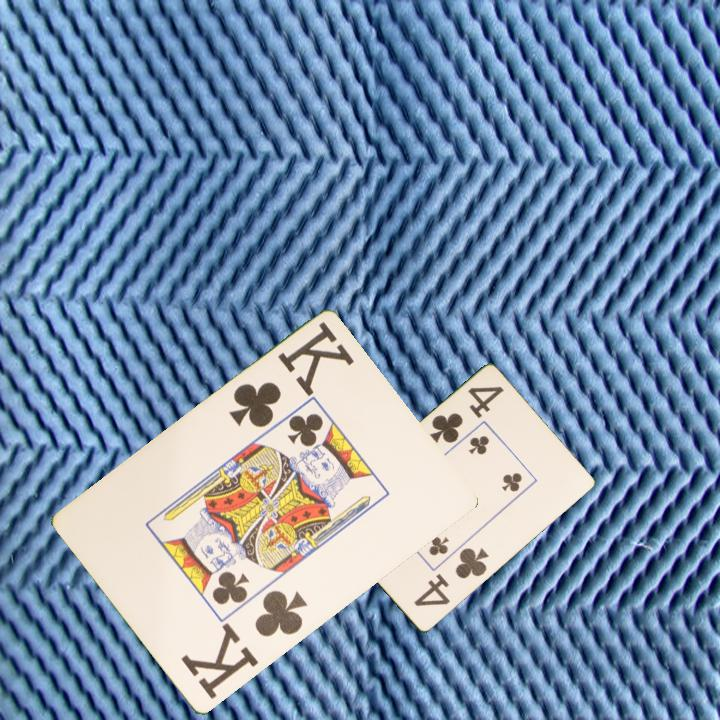4c: (410, 544, 492, 610), (425, 383, 507, 447)
Kc: (177, 586, 311, 703), (225, 318, 356, 432)
